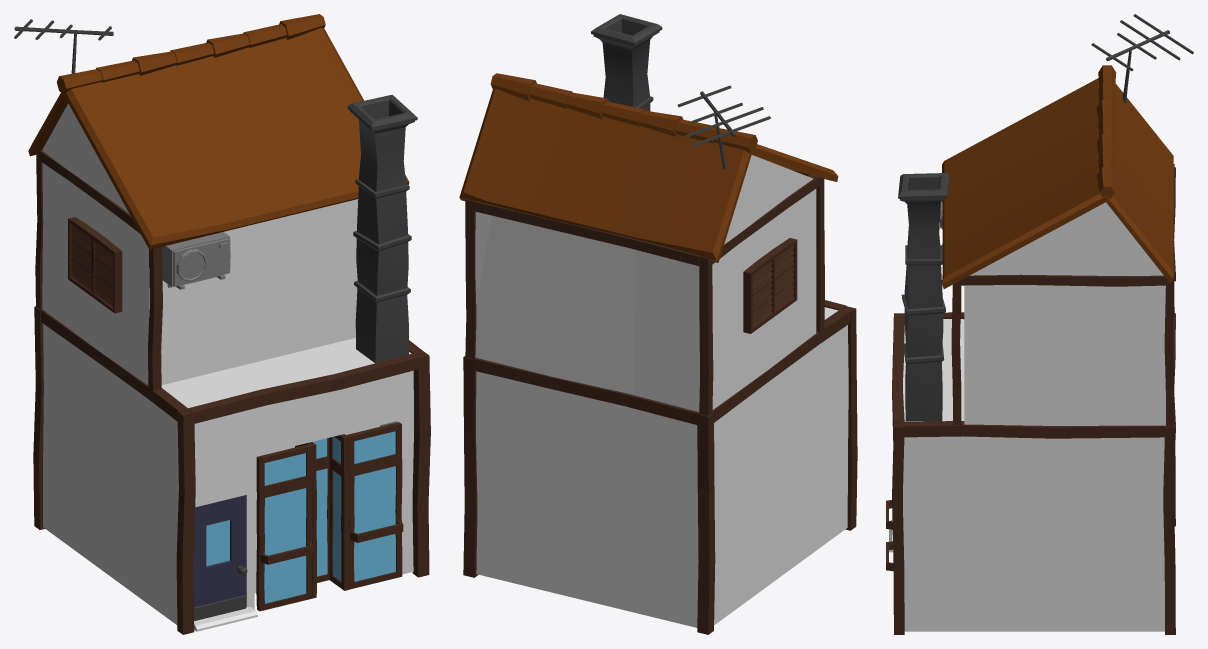
The model's file is SM_shop_01.fbx.
3 renders of one model, left to right at view 1: azimuth 30°, elevation 25°; view 2: azimuth 150°, elevation 25°; view 3: azimuth 270°, elevation 25°, orthographic. The views are drawn at different scales.
Visible parts, largest first — view 1: Object32370; view 2: Object32370; view 3: Object32370.
Boxes of the visible parts, x1,y1,x2,y2 form: Object32370: [14, 14, 430, 634]; Object32370: [459, 14, 857, 634]; Object32370: [886, 14, 1193, 634].
Bounding box in the file's own units: 222 × 373 × 213.
